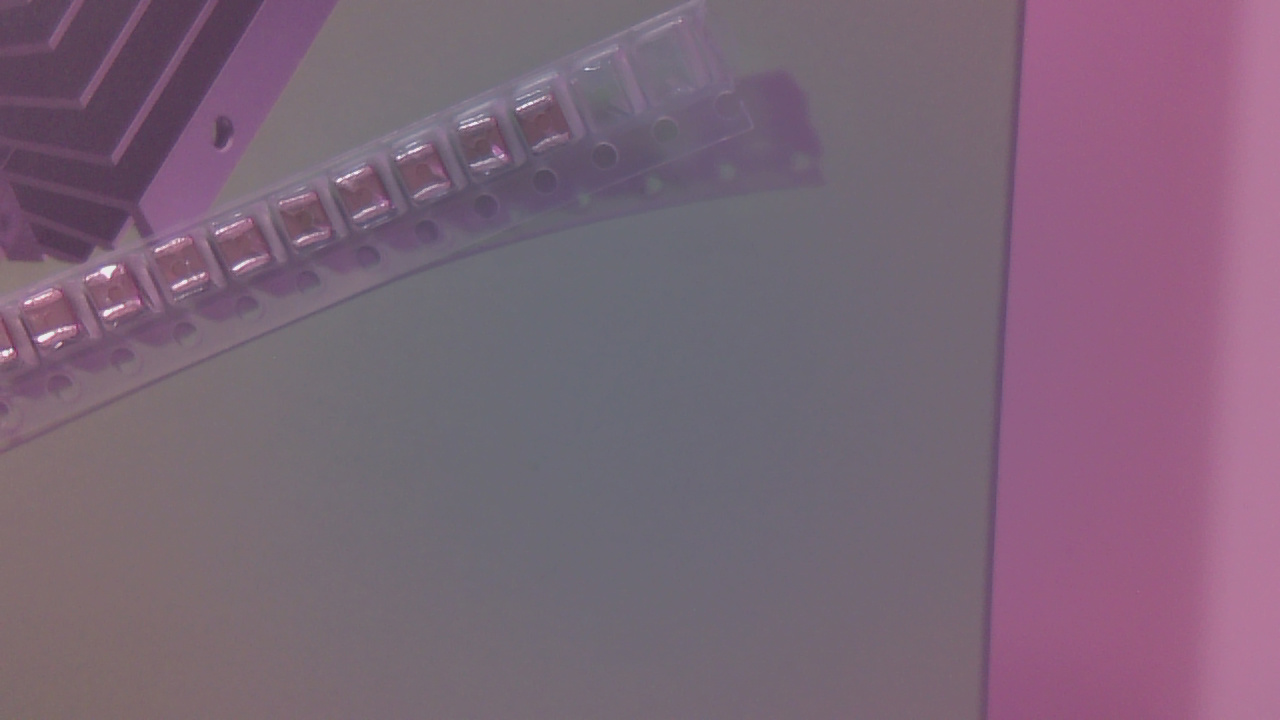Condensator: (519, 91, 573, 160), (158, 238, 216, 299), (89, 270, 150, 327), (279, 198, 340, 254), (397, 147, 456, 203), (26, 294, 83, 351), (339, 169, 399, 223), (218, 224, 277, 275), (465, 115, 509, 178)
